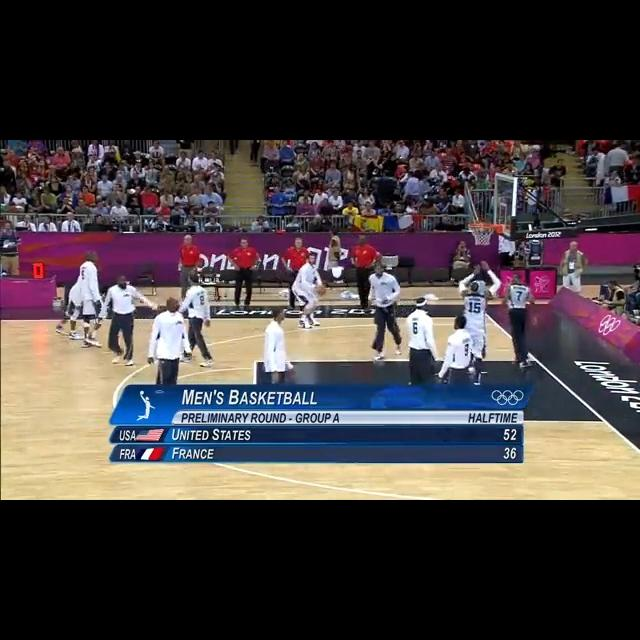basketball: (316, 283, 328, 296)
hoop: (469, 222, 495, 247)
